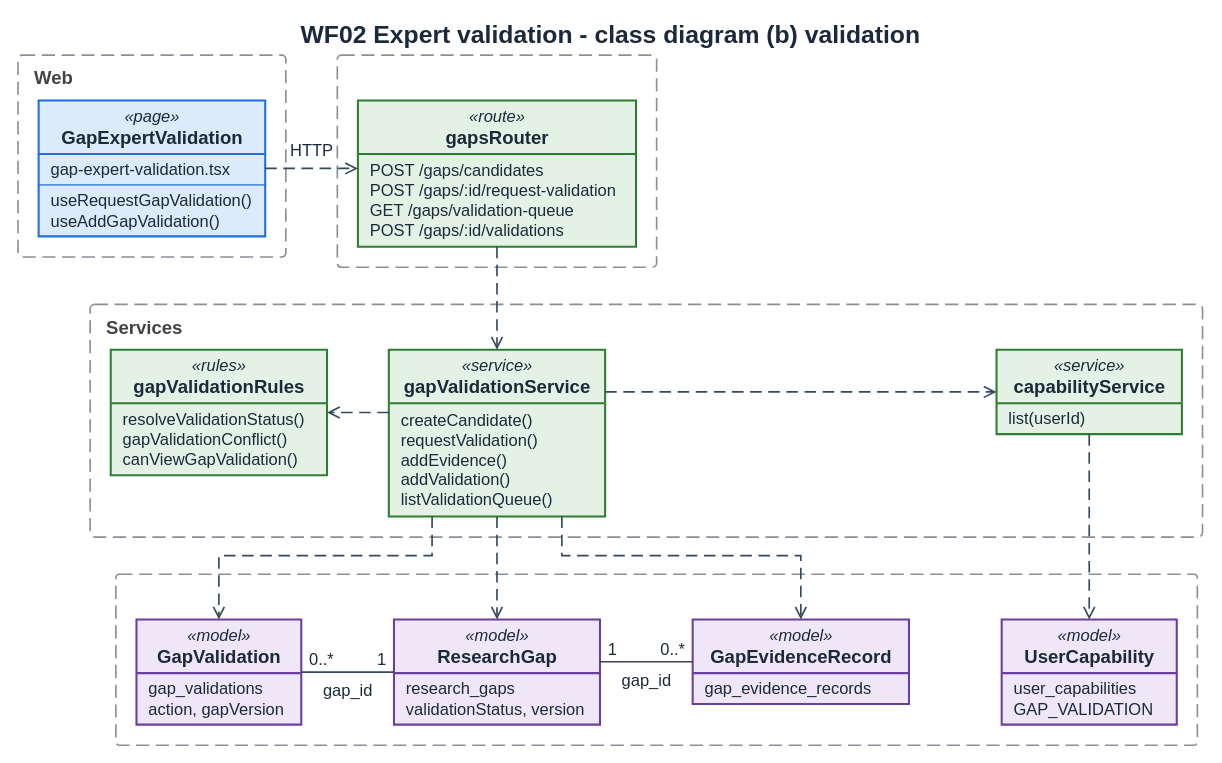
Image size: 1222x763. Some labels were removed from this diagram. The box of each missing label's shape, as (x1, y1, x2, y2) in pixels:
Backend routes: (336, 54, 657, 268)
Data model (Prisma): (115, 573, 1198, 746)
